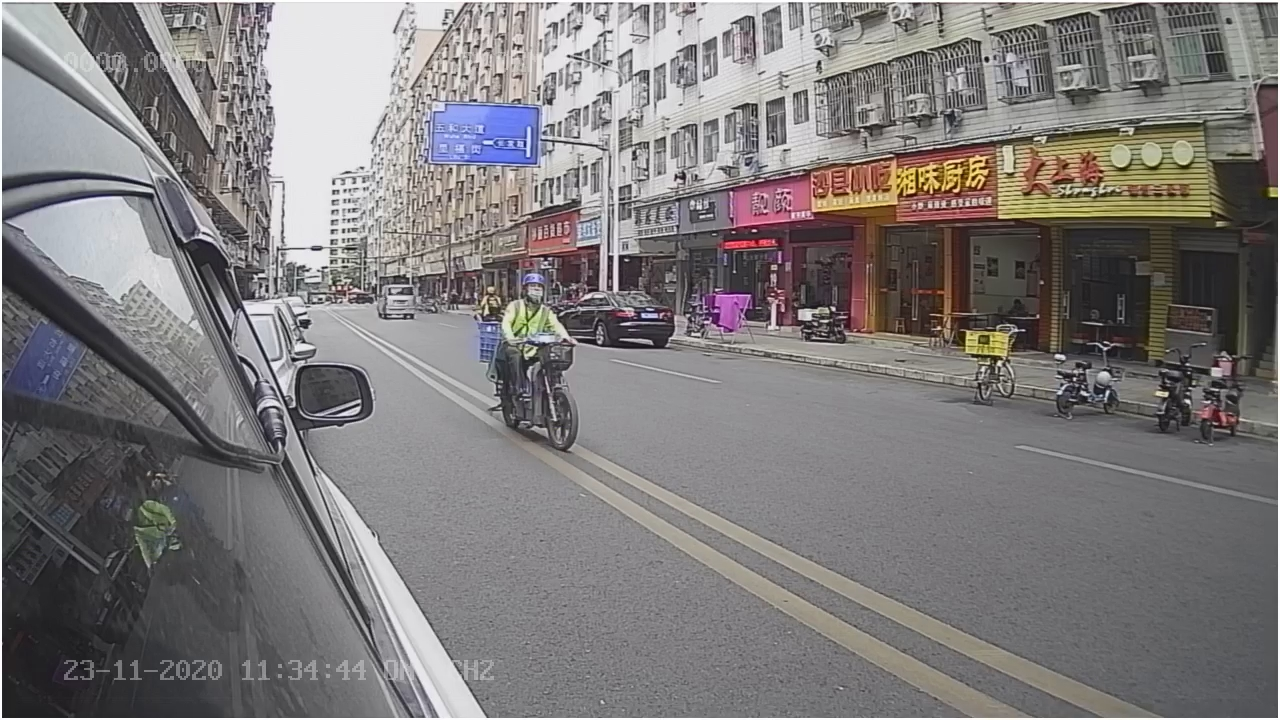person: (498, 270, 570, 346)
